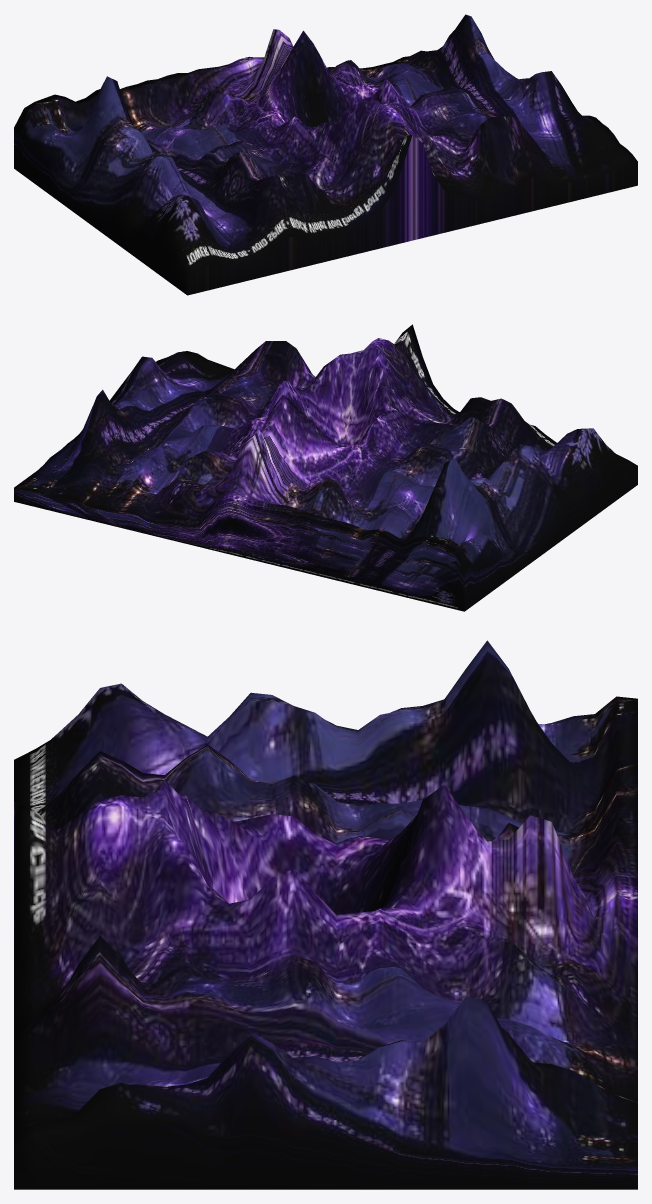
File: TOWER_INT_06_Void_Spire.glb
3 renders of one model, top to bottom at view 1: azimuth 30°, elevation 25°; view 2: azimuth 150°, elevation 25°; view 3: azimuth 270°, elevation 25°, orthographic. The views are drawn at different scales.
Parts seen in each view (by area): view 1: TOWER_INT_06_Void_Spire; view 2: TOWER_INT_06_Void_Spire; view 3: TOWER_INT_06_Void_Spire.
Boxes of the visible parts, left/top/right/bottom form: TOWER_INT_06_Void_Spire: left=14, top=14, right=637, bottom=295; TOWER_INT_06_Void_Spire: left=14, top=324, right=637, bottom=611; TOWER_INT_06_Void_Spire: left=14, top=640, right=637, bottom=1189.
Bounding box in the file's own units: 2 × 0.51 × 1.33.
1 material, 1 textured.
